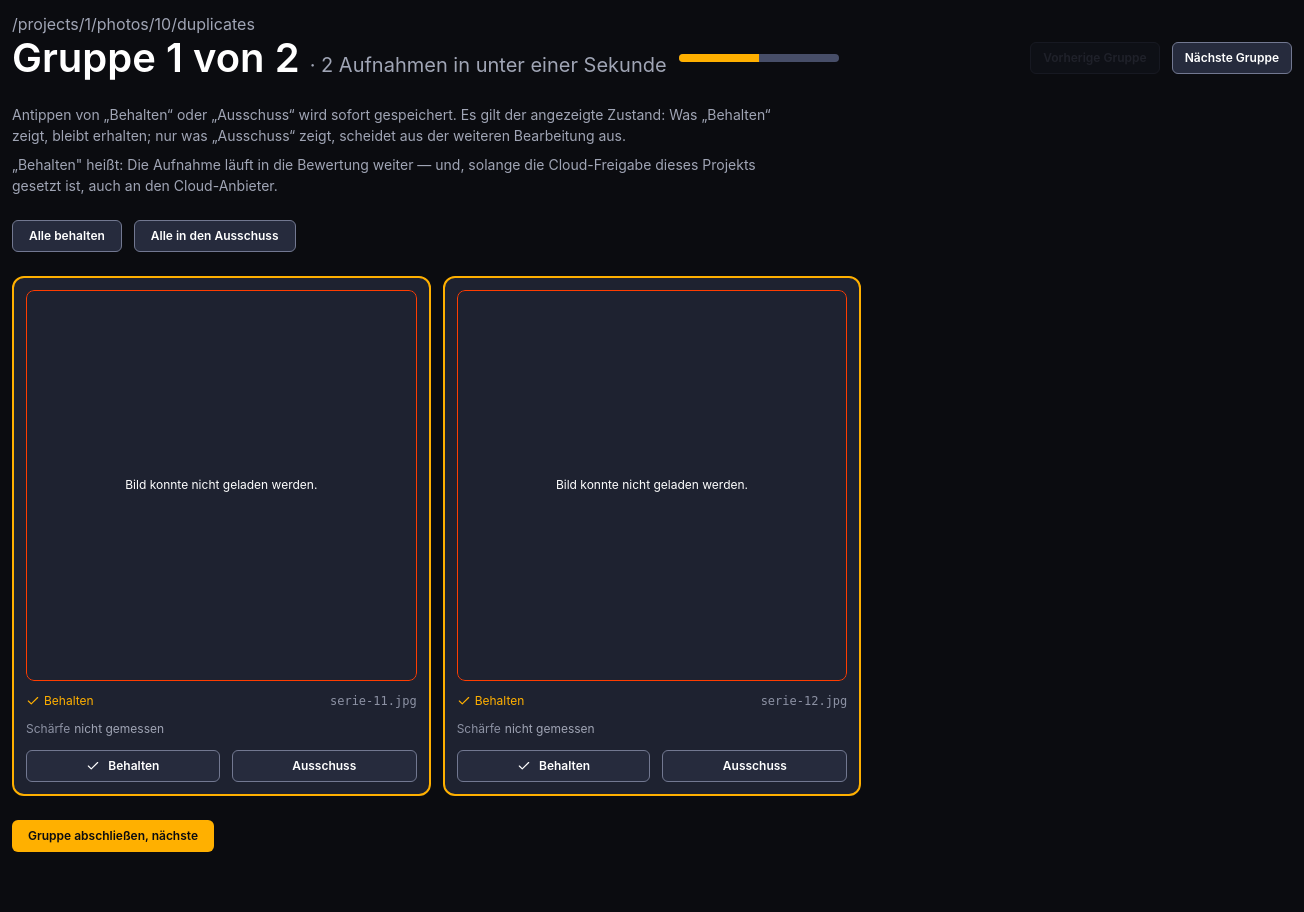
Test case: DuplicateComparePage - die Gruppennavigation › gibt den Fokus am Rand an die Gegenschaltflaeche ab
This screenshot has width=1304, height=912.
Click the button "Nächste Gruppe" at (1232, 58), box [1172,42,1292,74]
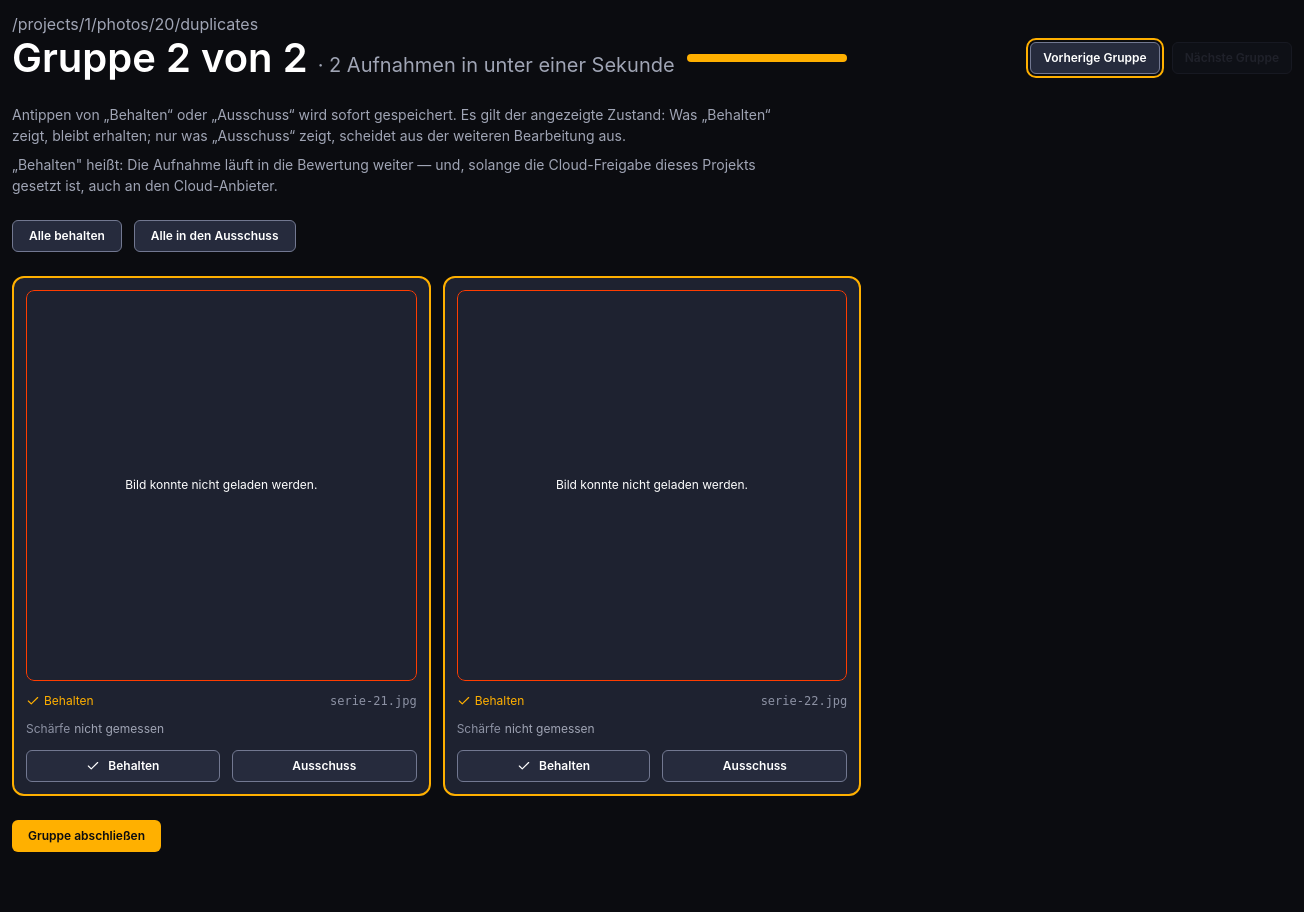
Now the button "Nächste Gruppe" is disabled, box [1172,42,1292,74]
